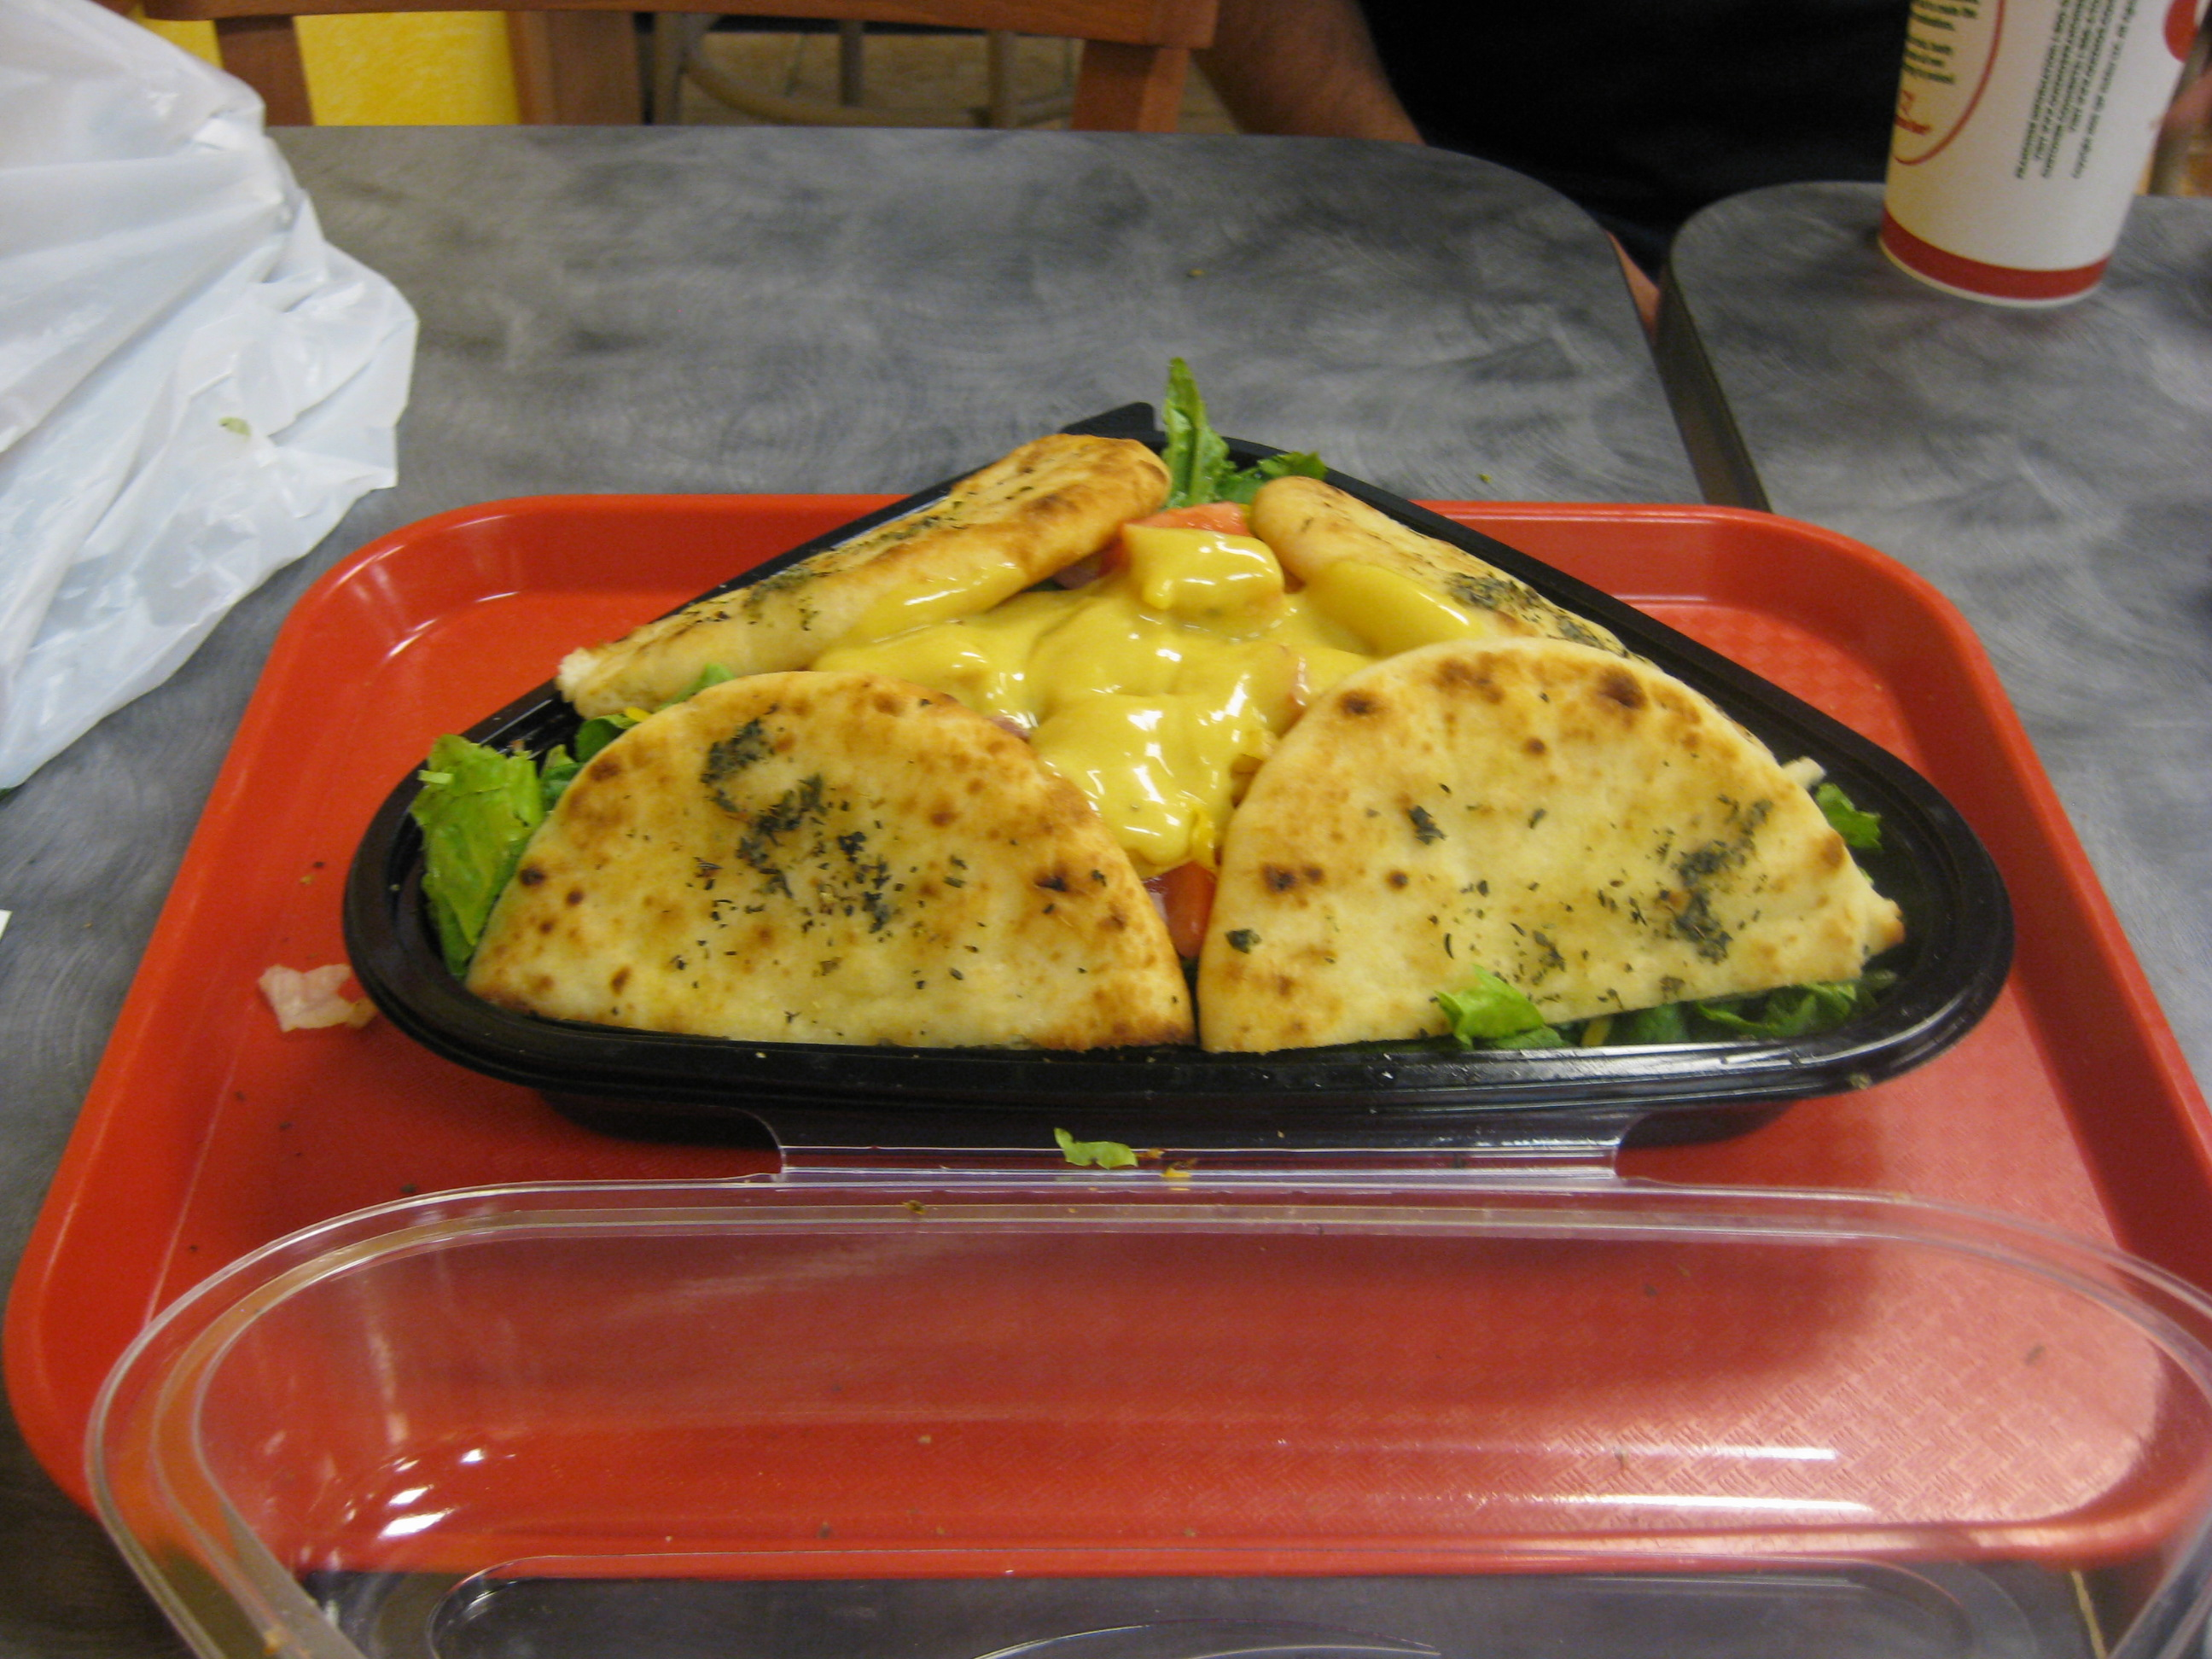burrito: (356, 335, 2013, 1164)
